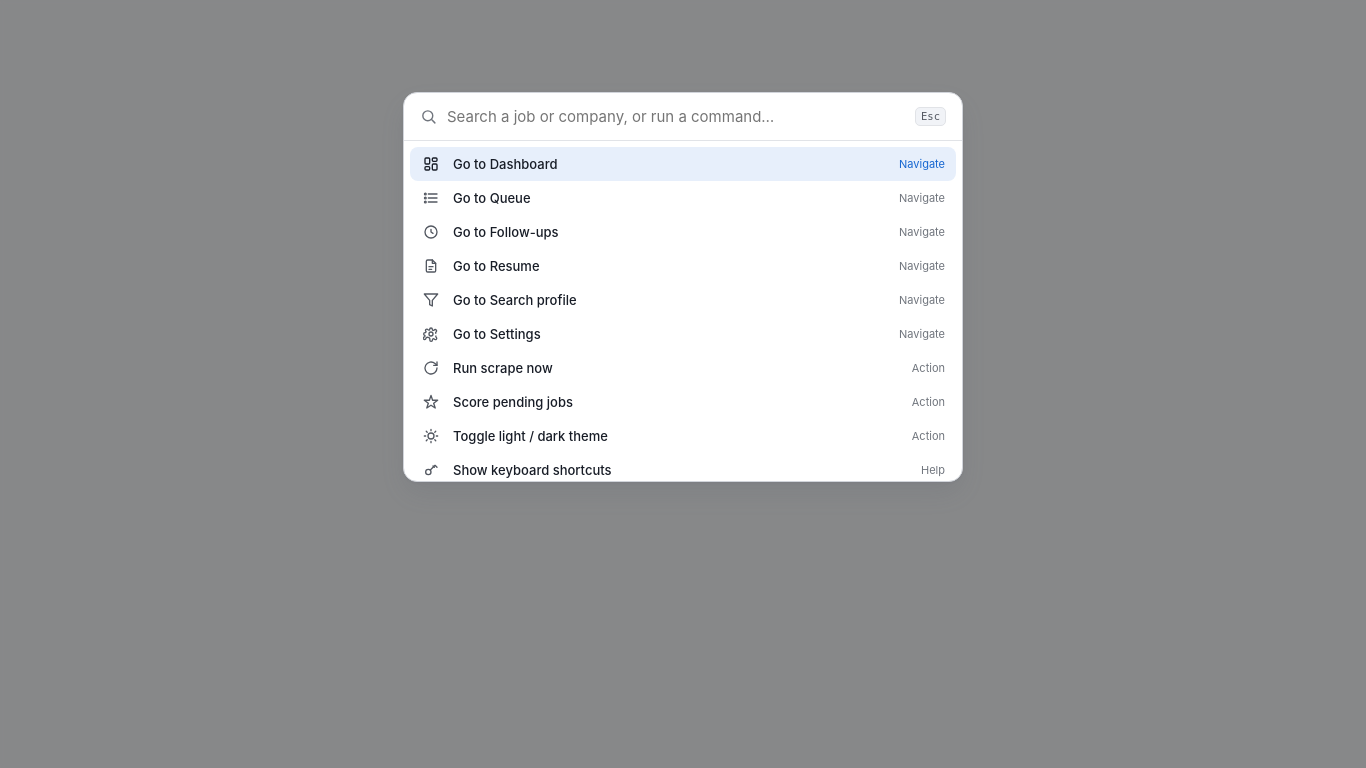
CommandPalette › lists matching ingested postings above the commands
Step 1. Type "acme" into the field named "Command palette input" → (676, 117), box [447,107,905,126]
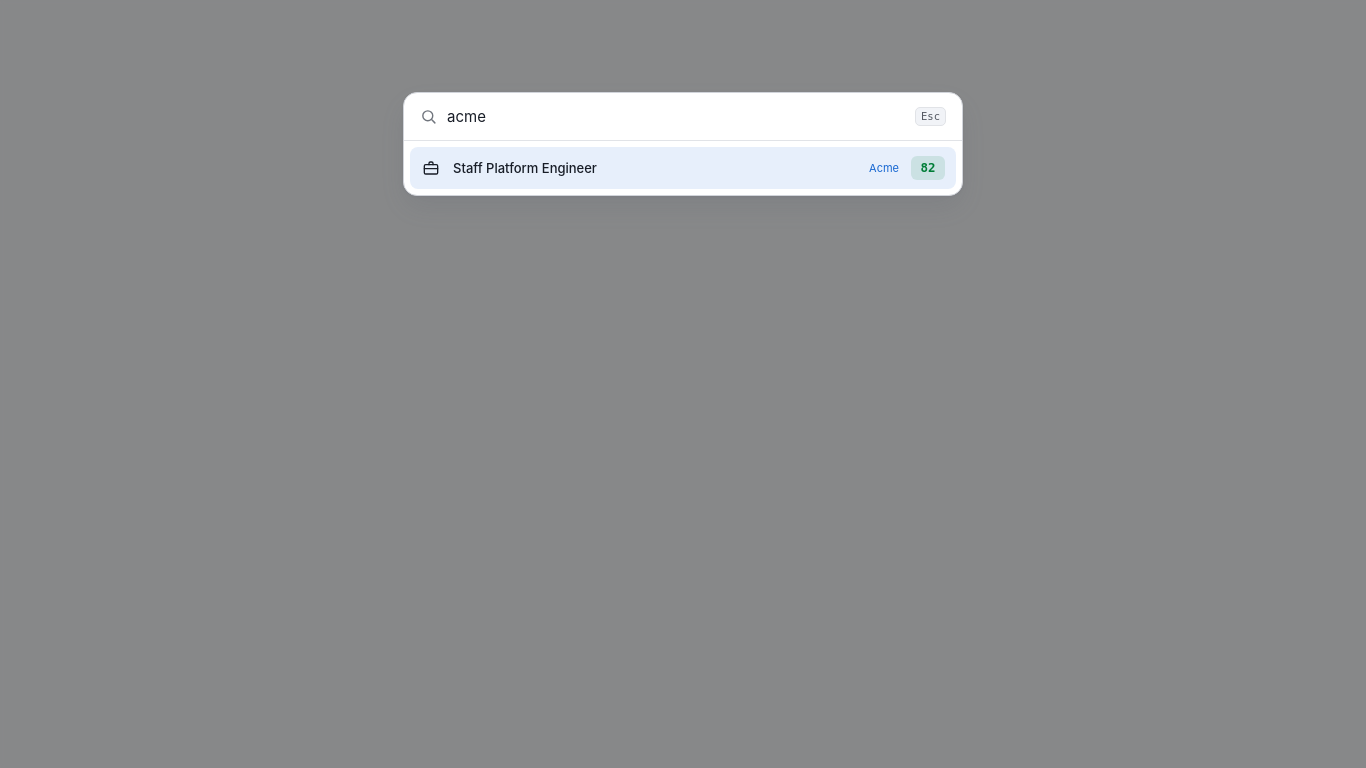
Expected: the text "Staff Platform Engineer" is shown, [453,160,597,176]
Expected: the text "Acme" is shown, [869,161,899,175]
Expected: the text "82" is shown, [911,156,945,180]
